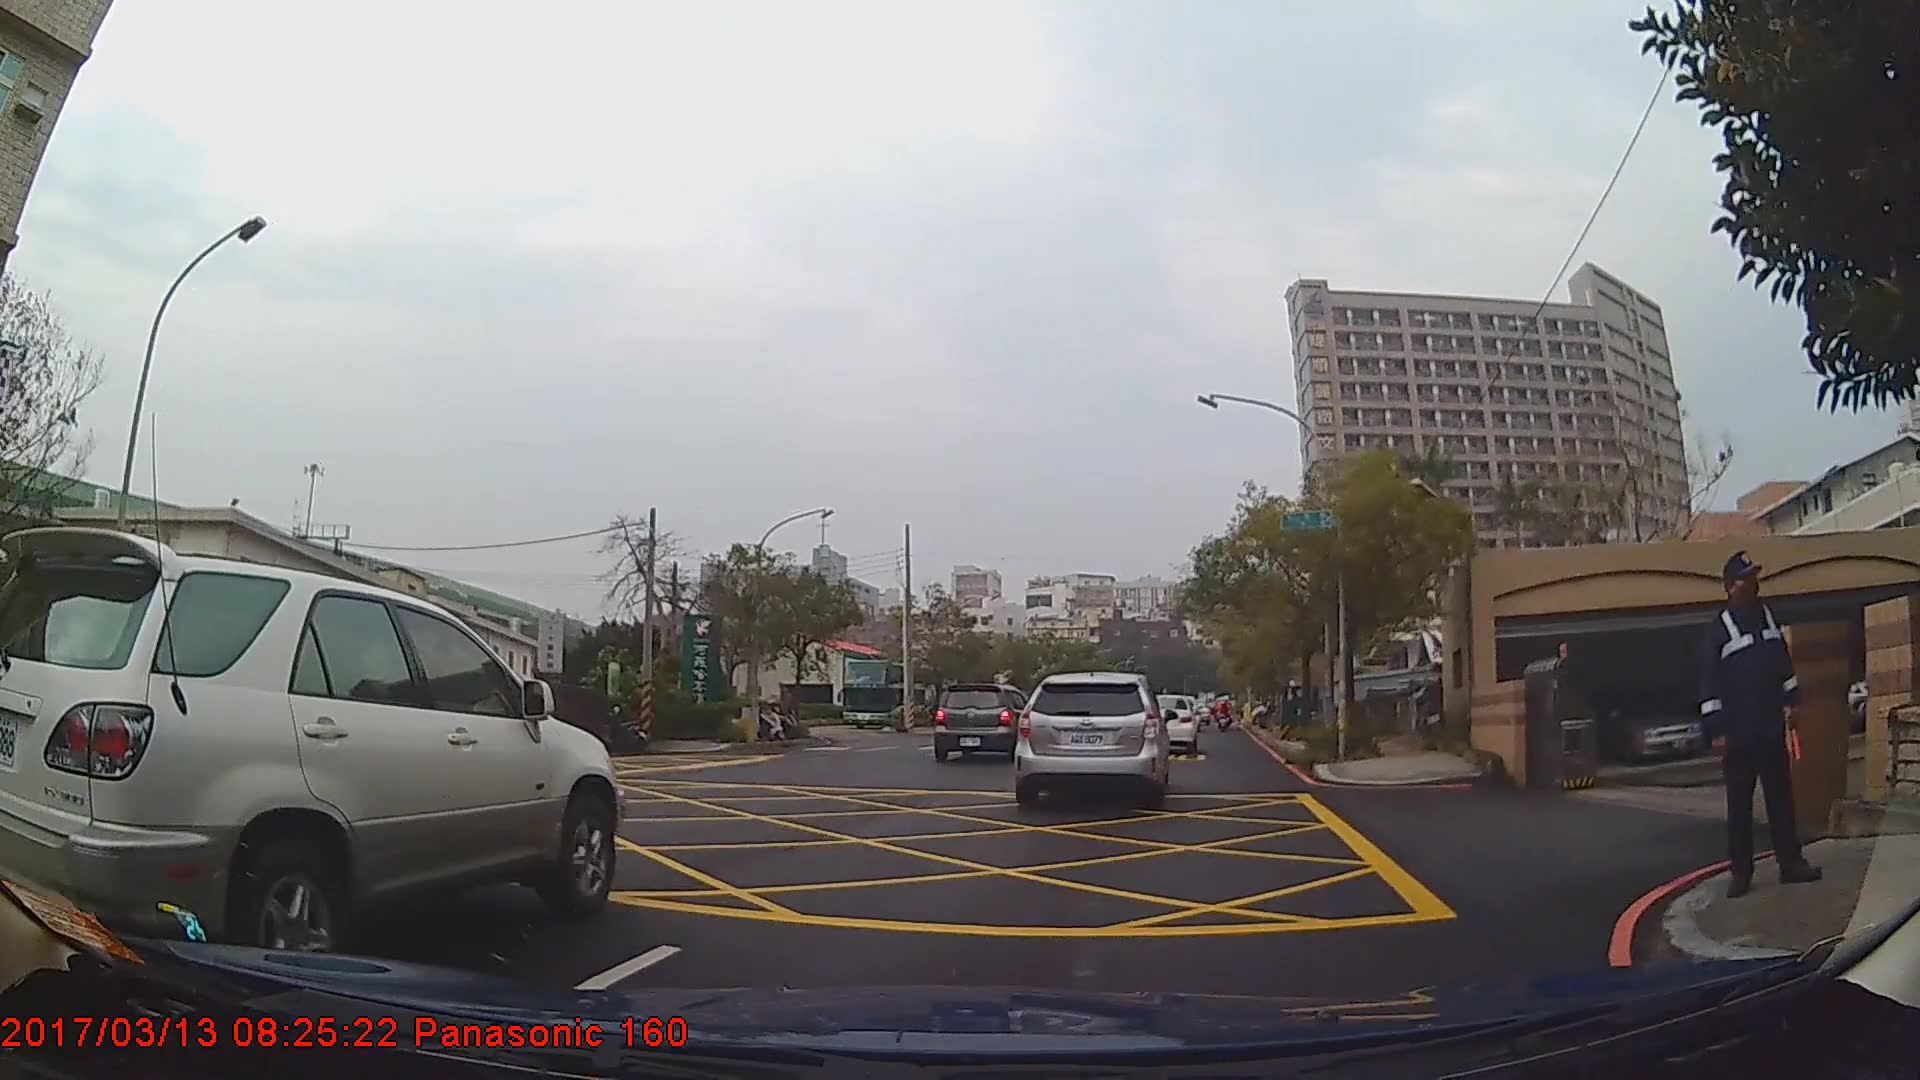pedestrian: (1700, 546, 1821, 904)
vehicle: (0, 522, 624, 993), (1012, 668, 1171, 810), (1591, 682, 1707, 759), (931, 680, 1036, 761), (839, 656, 940, 729), (1135, 691, 1199, 755)
